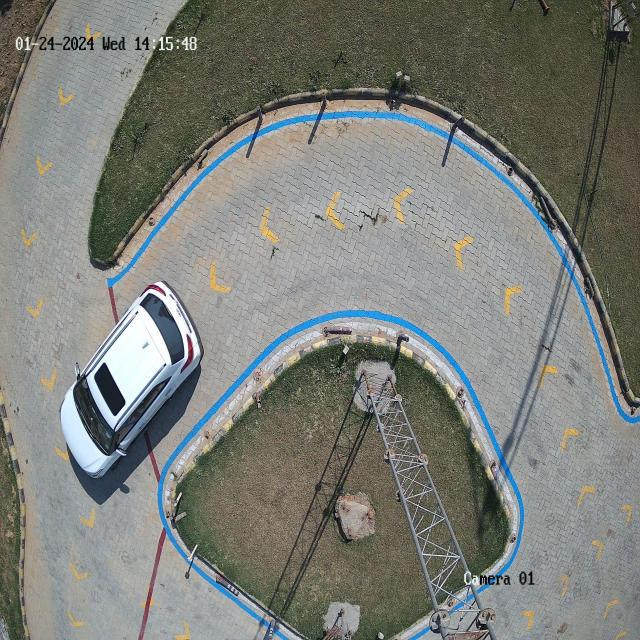car: (60, 282, 204, 478)
